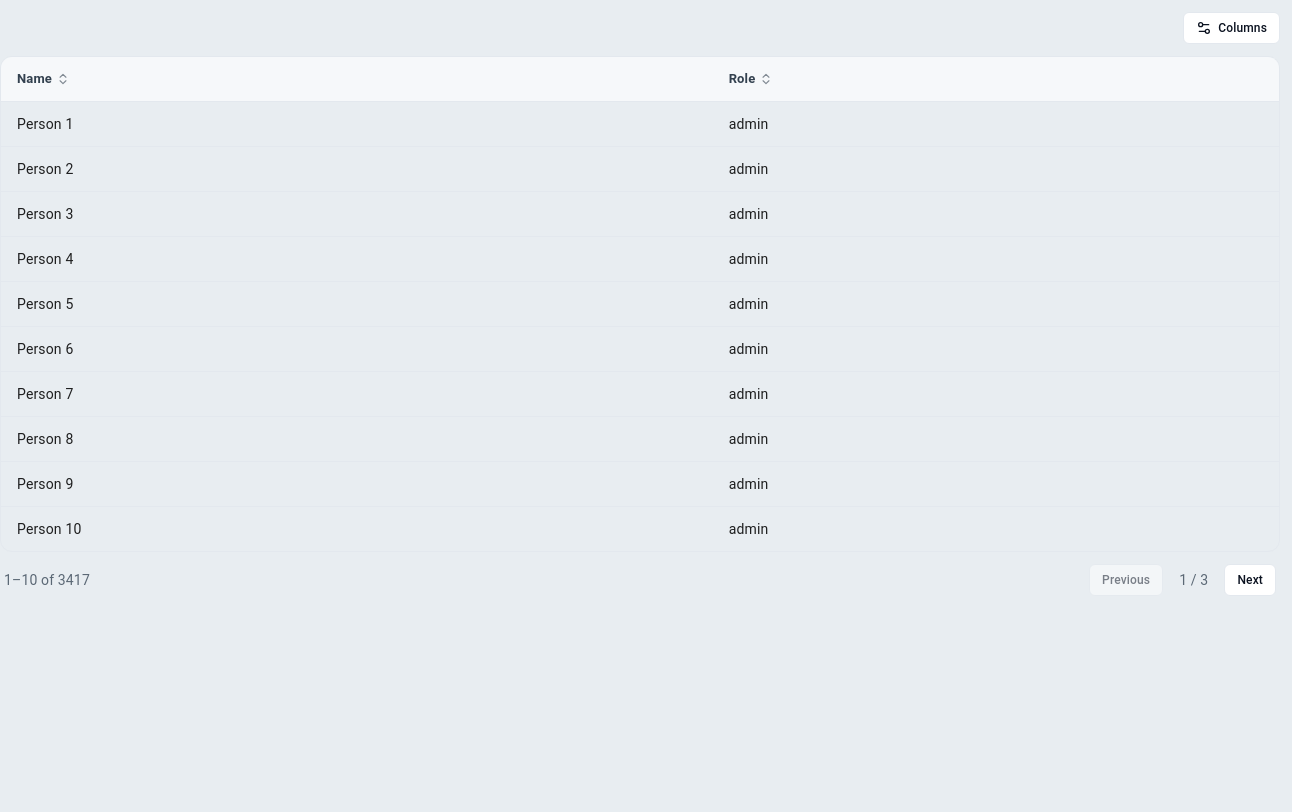
Scenario: DataTable — pagination › handles a totalCount in the thousands without breaking the range display or page navigation
Check: the text "1–10 of 3417" is shown, box top-left (4, 570), bottom-right (90, 590)
Click the button "Next" at (1250, 580), box top-left (1224, 564), bottom-right (1276, 596)
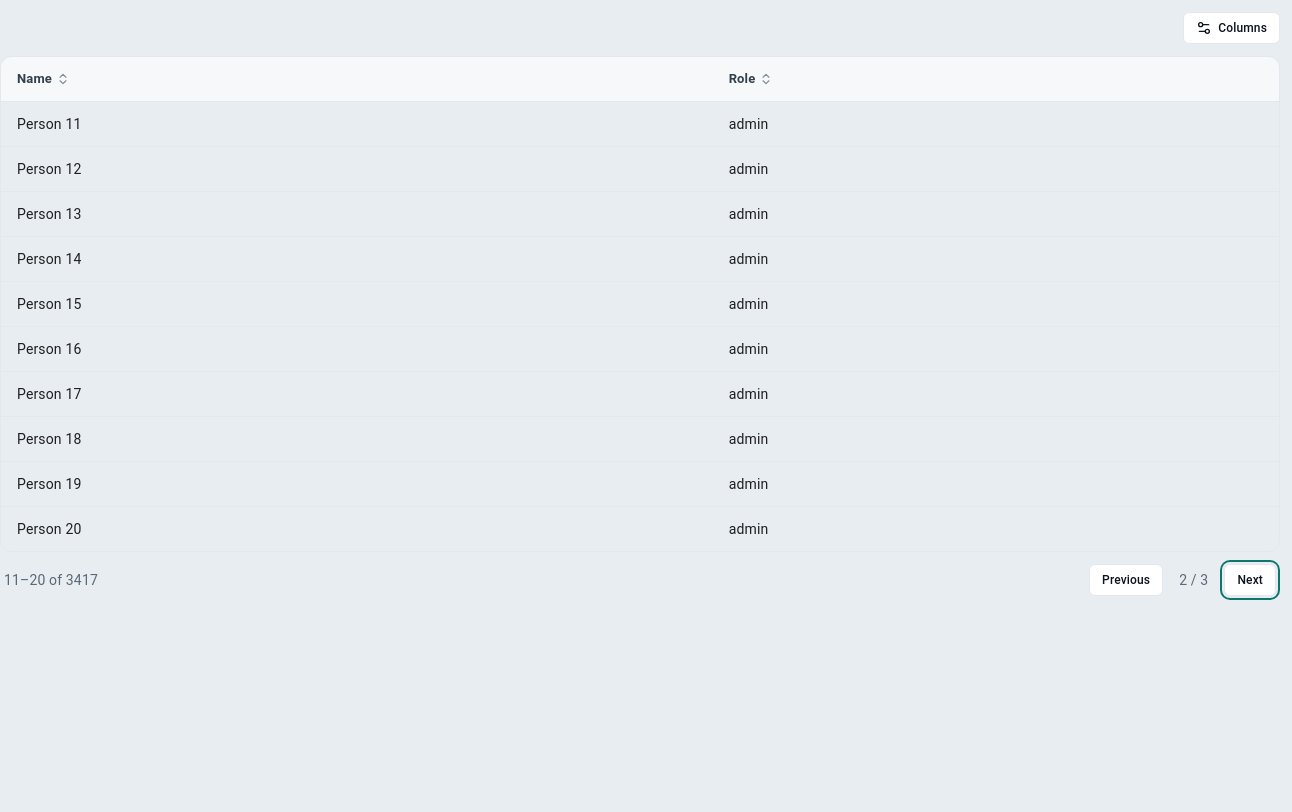
Check: the text "11–20 of 3417" is shown, box top-left (4, 570), bottom-right (98, 590)
Check: the text "Person 11" is shown, box top-left (1, 101), bottom-right (713, 146)
